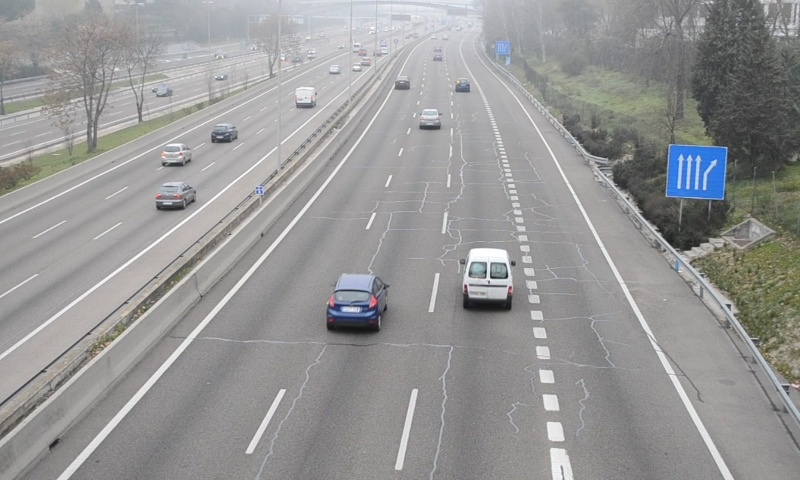car: (326, 274, 387, 326), (419, 108, 442, 130), (454, 78, 471, 92), (395, 74, 410, 88)
van: (463, 247, 513, 307)
